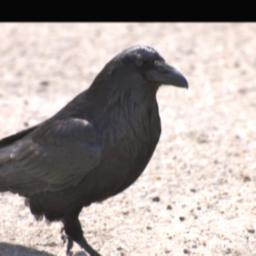Crow: (0, 44, 192, 256)
